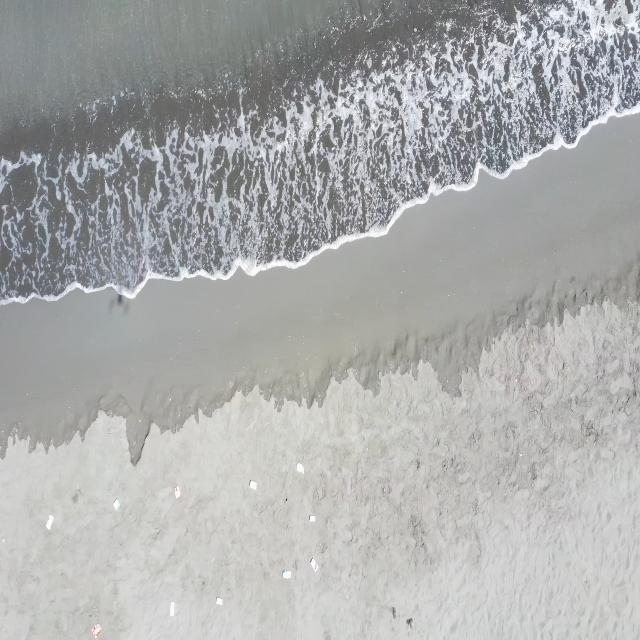Garbage: (91, 624, 100, 637), (112, 496, 120, 510), (44, 515, 52, 529), (310, 557, 318, 571), (173, 484, 180, 497), (281, 570, 291, 579), (307, 513, 315, 522), (296, 462, 303, 472), (168, 602, 173, 615), (248, 480, 255, 489), (216, 595, 221, 604)
